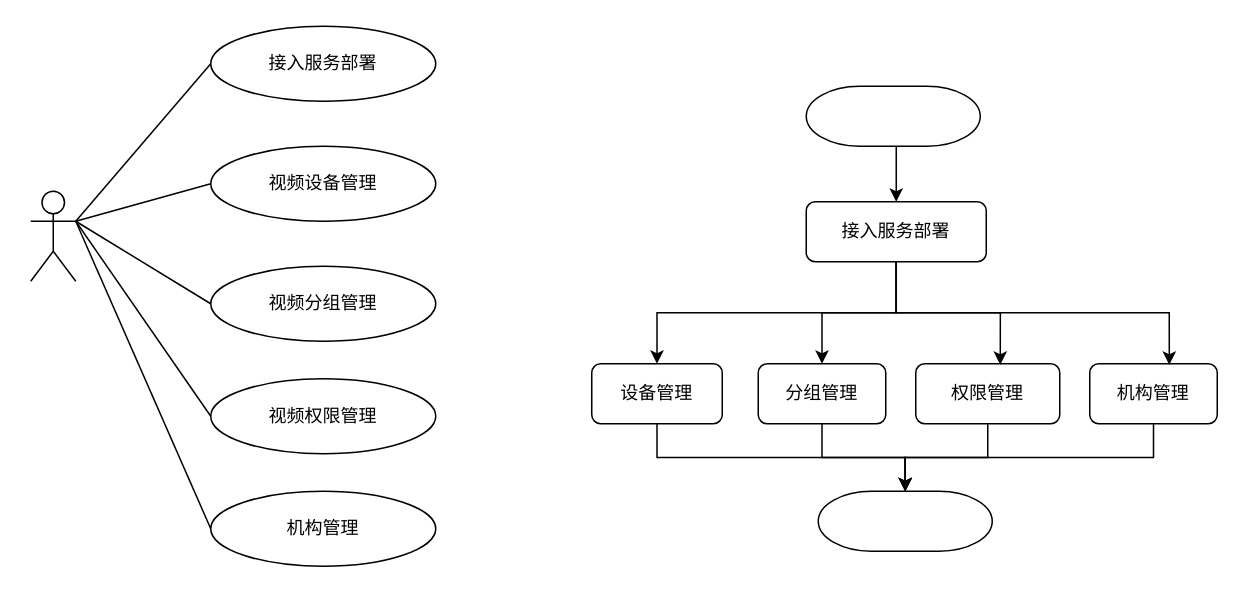
Image size: 1244x593. Some labels were removed from this diagram. Each missing label, with the box of its shape:
开始: (805, 85, 980, 146)
管理员: (29, 190, 76, 281)
结束: (817, 490, 992, 551)
